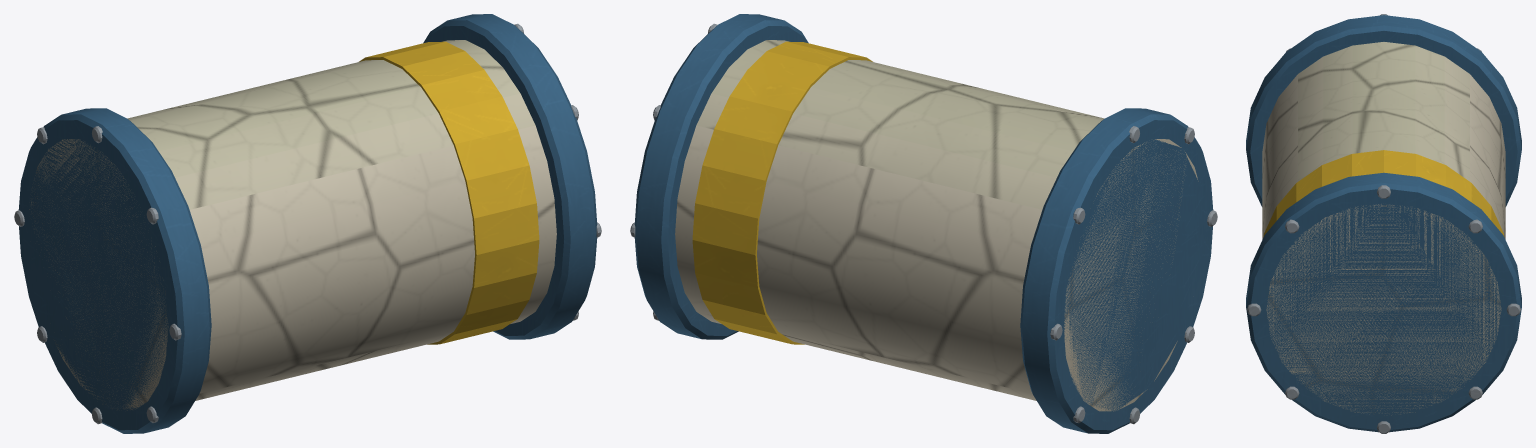
File: large_pipe_short.glb
3 views of the same model, side by side, from view 1: azimuth 30°, elevation 25°; view 2: azimuth 150°, elevation 25°; view 3: azimuth 270°, elevation 25° (orthographic). The views are drawn at different scales.
Parts seen in each view (by area): view 1: large_pipe_short; view 2: large_pipe_short; view 3: large_pipe_short.
Boxes of the visible parts, x1,y1,x2,y2 form: large_pipe_short: (14,14,601,433); large_pipe_short: (630,14,1217,433); large_pipe_short: (1246,14,1521,433).
Size of the model in its own units: 2.03 by 1.36 by 1.36.
Materials: 4 (4 with a texture image).
